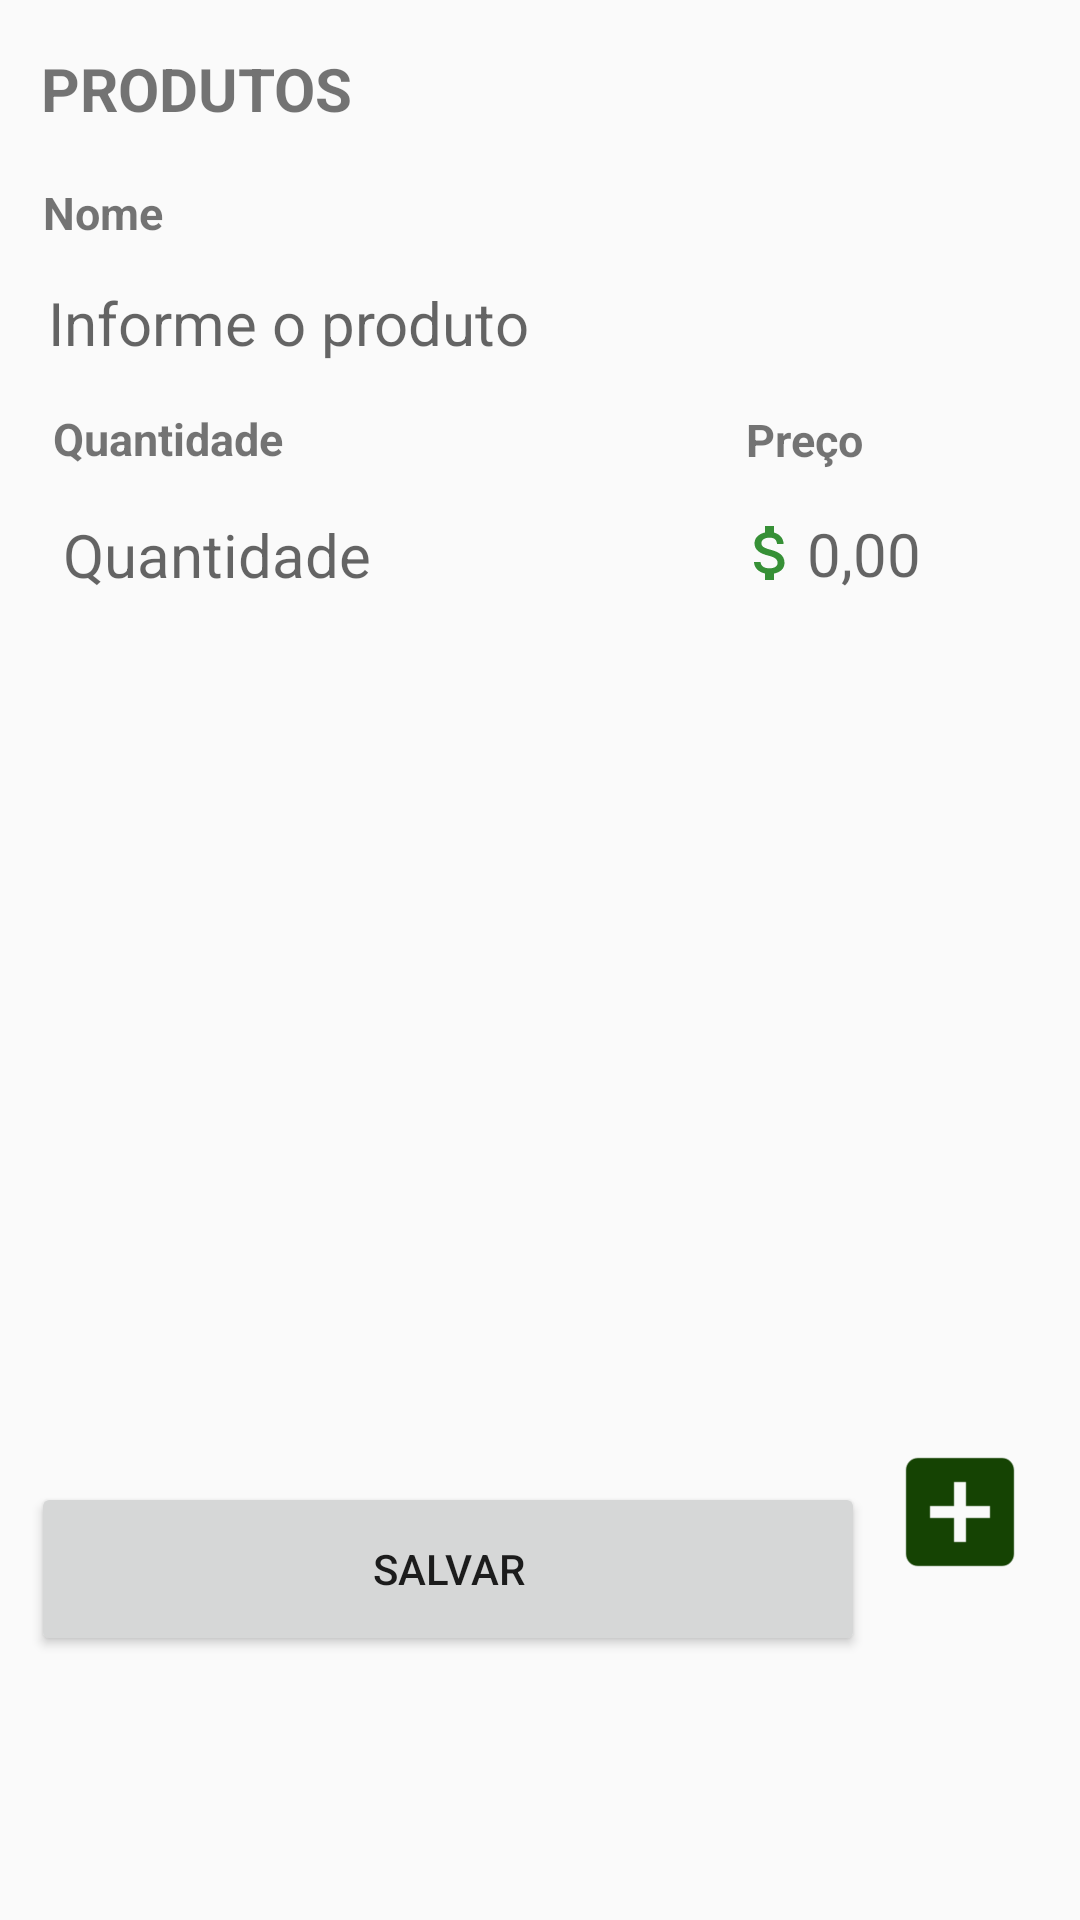

Screen size 1080x1920. Icon name, then its box in pixels as (x1, y1, x2, y2):
add produto lista: (905, 1457, 1015, 1567)
